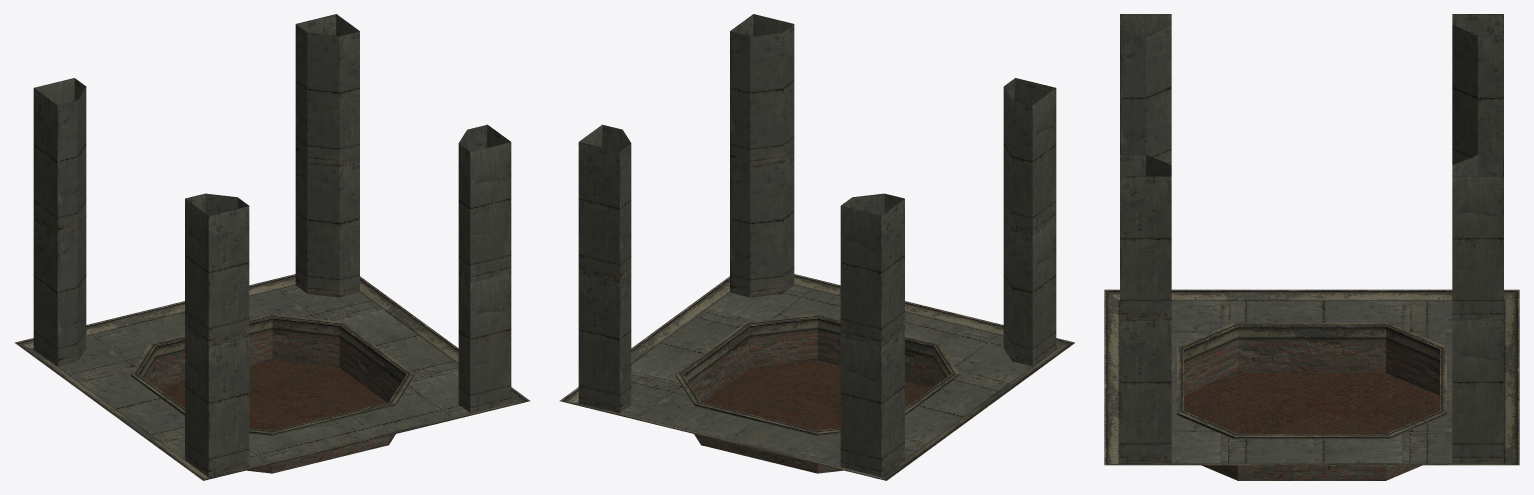
Rendered from structure_piece_rg_1.obj.
The picture shows the model from 3 angles, left to right: view 1: azimuth 30°, elevation 25°; view 2: azimuth 150°, elevation 25°; view 3: azimuth 270°, elevation 25°; orthographic projection. The views are drawn at different scales.
Parts seen in each view (by area): view 1: structure_piece_rg_1; view 2: structure_piece_rg_1; view 3: structure_piece_rg_1.
Boxes of the visible parts, left/top/right/bottom form: structure_piece_rg_1: left=15, top=14, right=530, bottom=480; structure_piece_rg_1: left=559, top=14, right=1074, bottom=480; structure_piece_rg_1: left=1104, top=14, right=1519, bottom=480.
Bounding box in the file's own units: 8 × 7.05 × 8.
